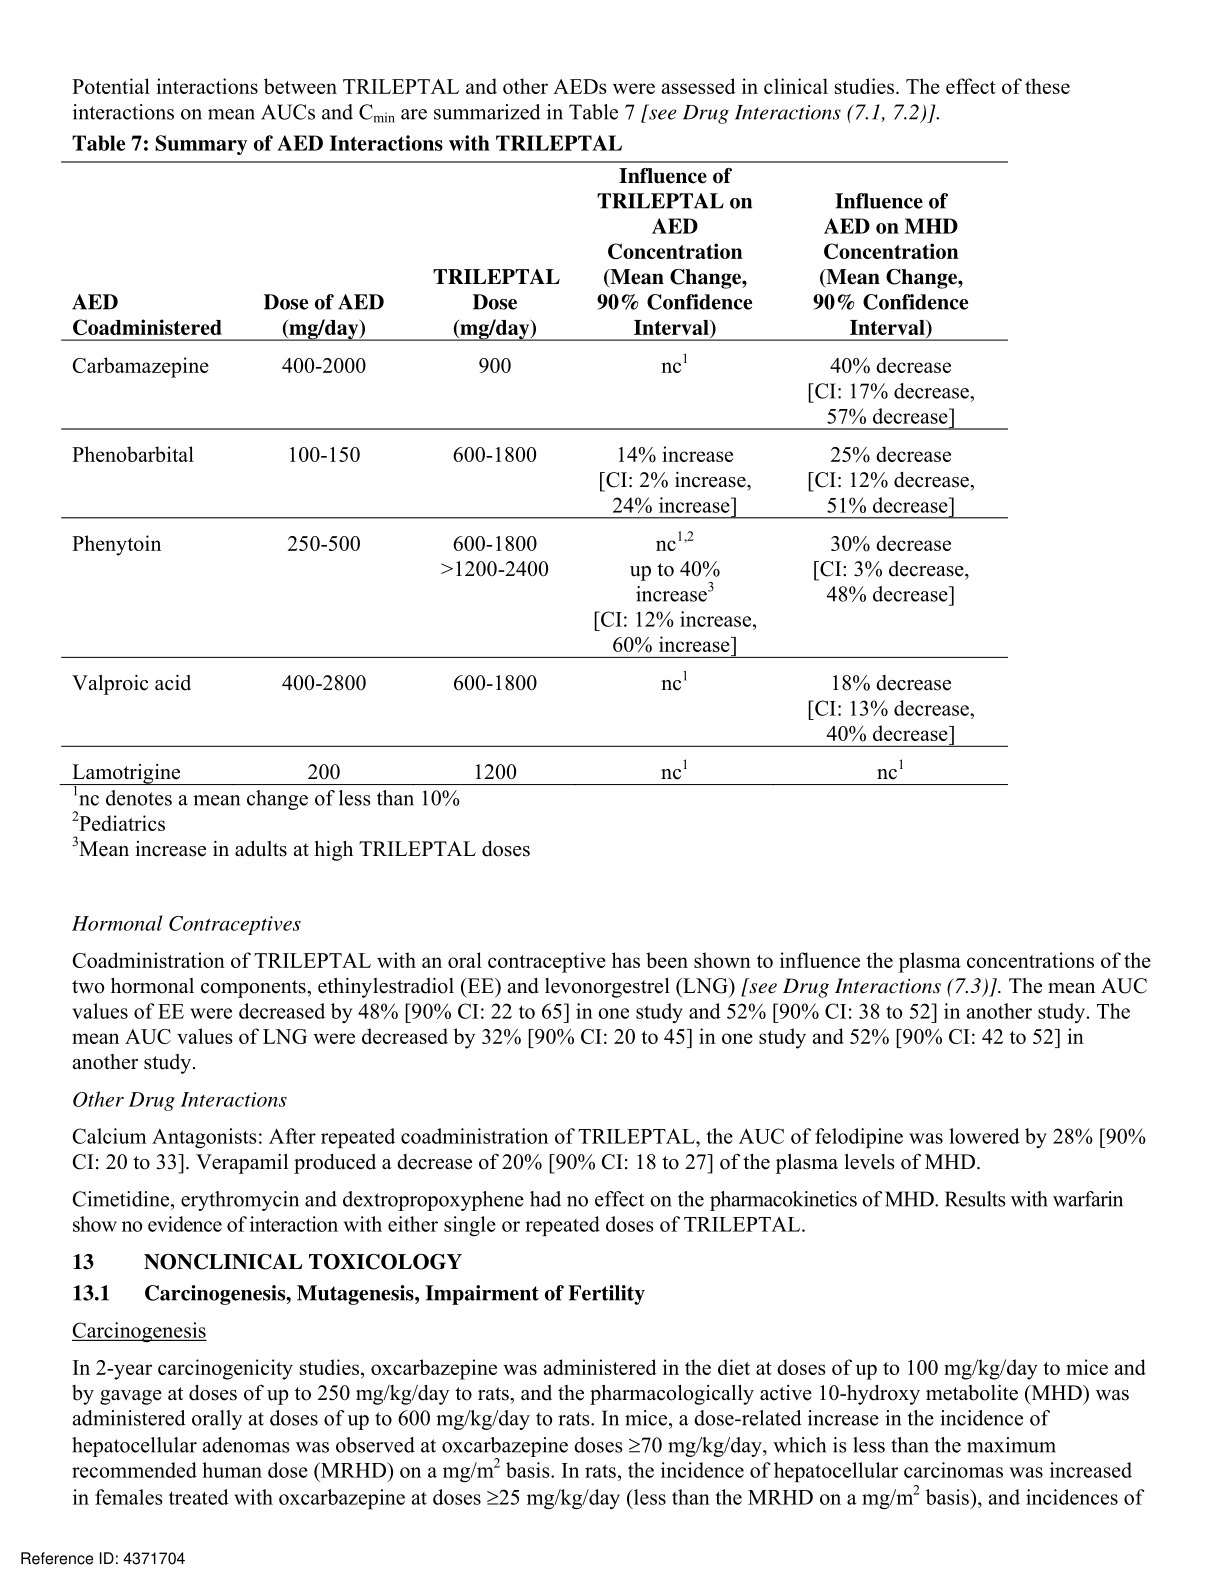partial_lined: (59, 159, 1009, 786)
